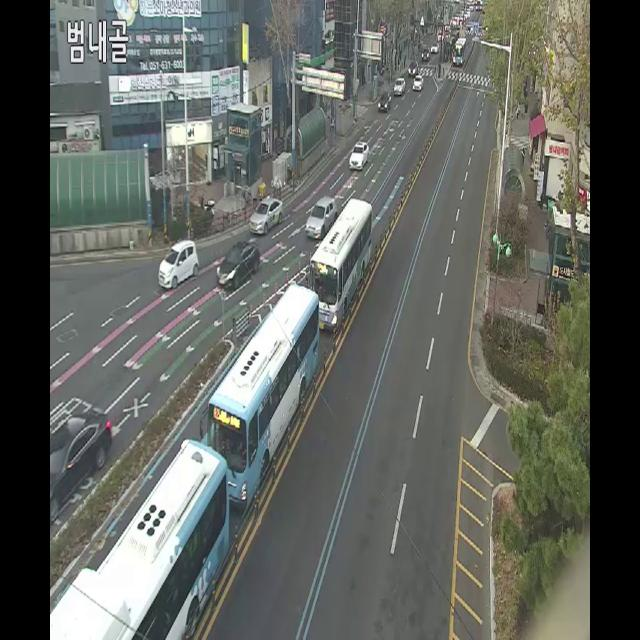car: (199, 273, 326, 515), (302, 192, 378, 337)
motorcycle: (38, 394, 114, 524), (154, 231, 206, 297), (215, 242, 260, 293), (246, 193, 287, 237), (347, 138, 370, 174)
